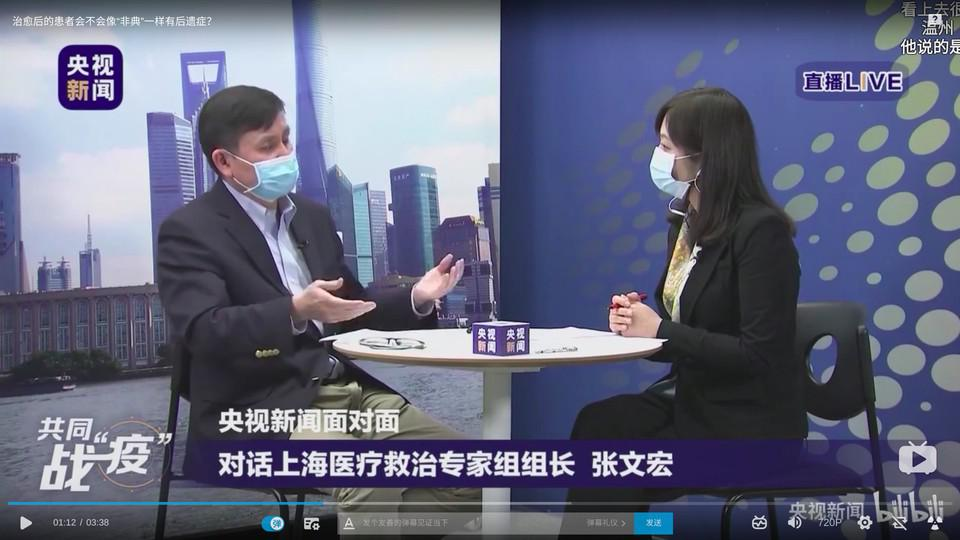OK: (651, 120, 697, 198)
WRONG: (246, 123, 299, 201)
